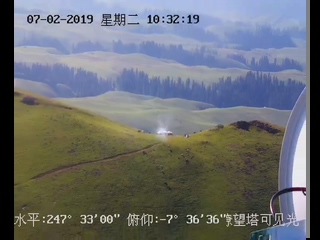smoke: (155, 119, 170, 138)
